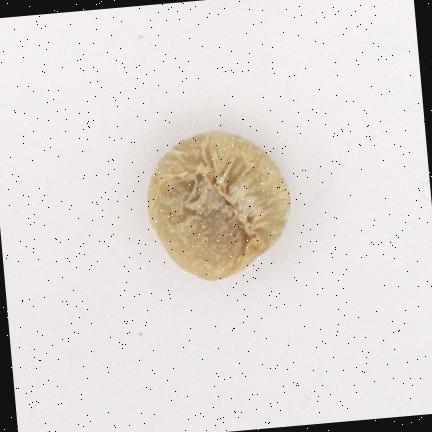immature: (149, 131, 290, 279)
